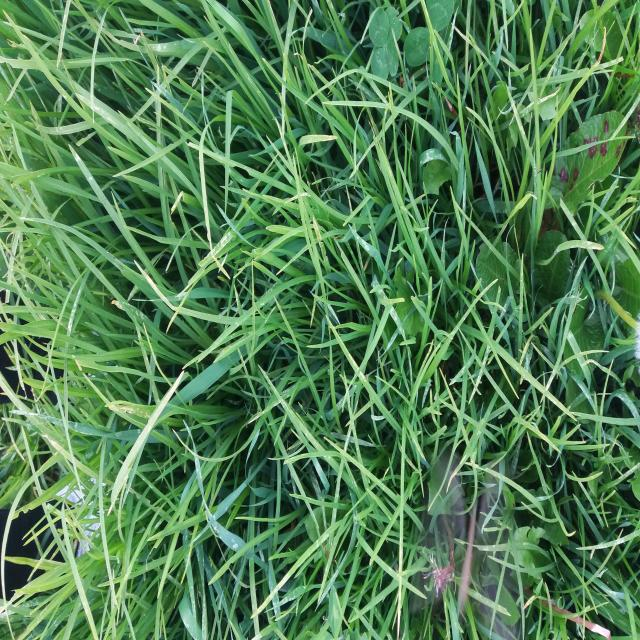Four Leaf Clover: (368, 6, 402, 80)
